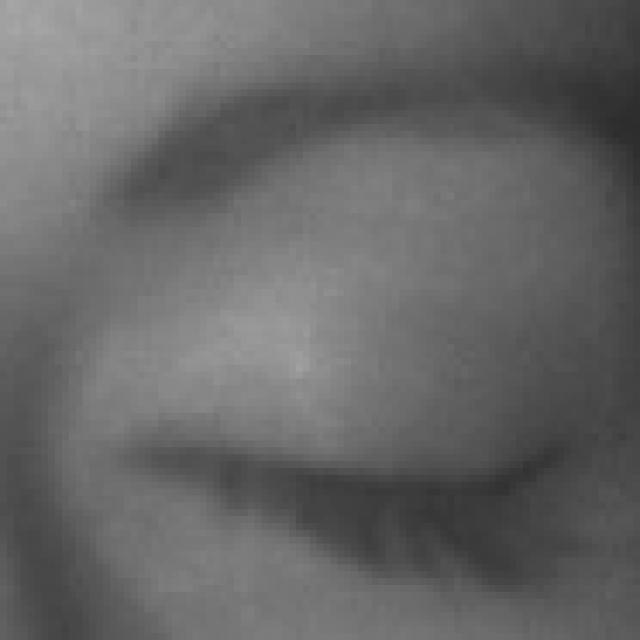Eyeclosed: (142, 256, 578, 640)
